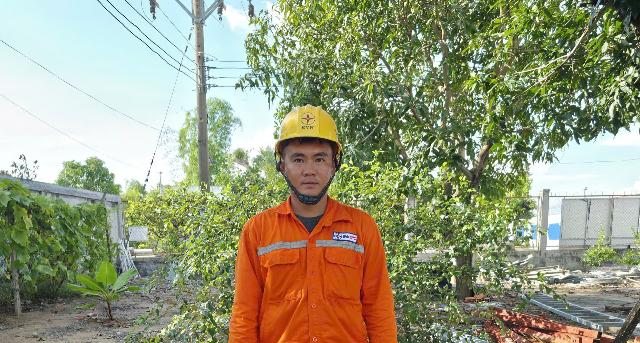helmet: (273, 103, 345, 165)
